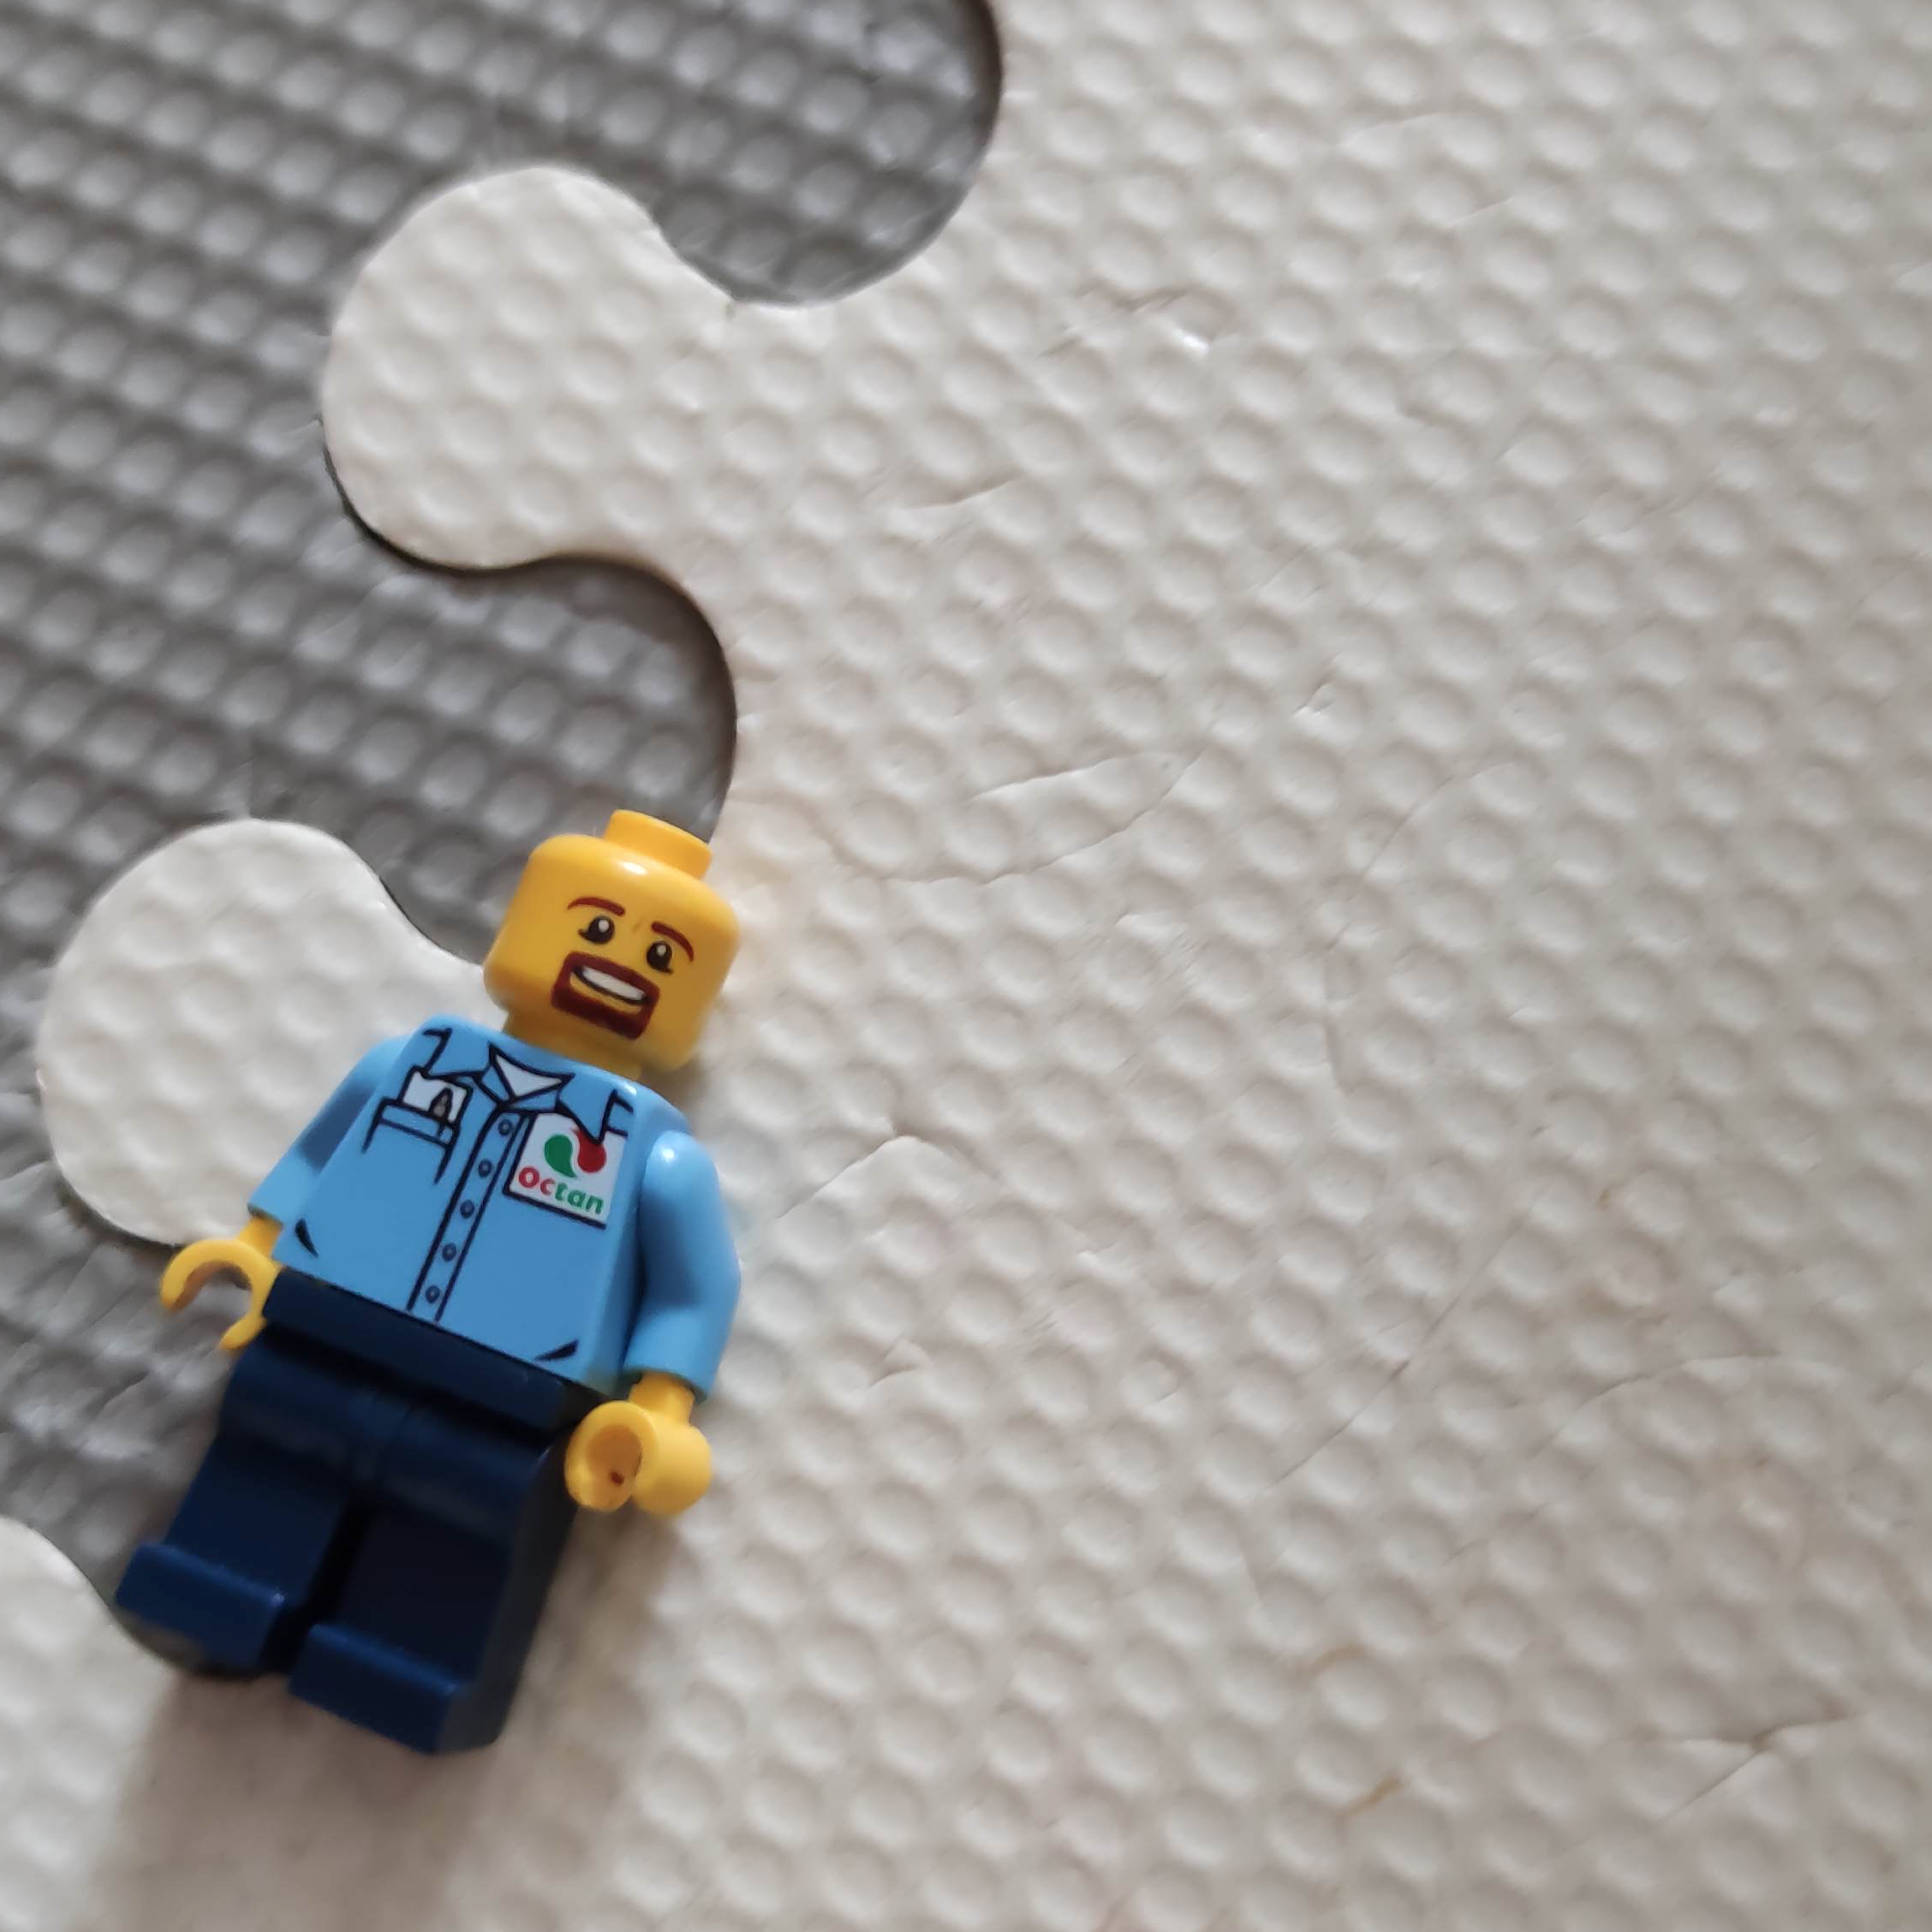lego: (111, 810, 740, 1752)
